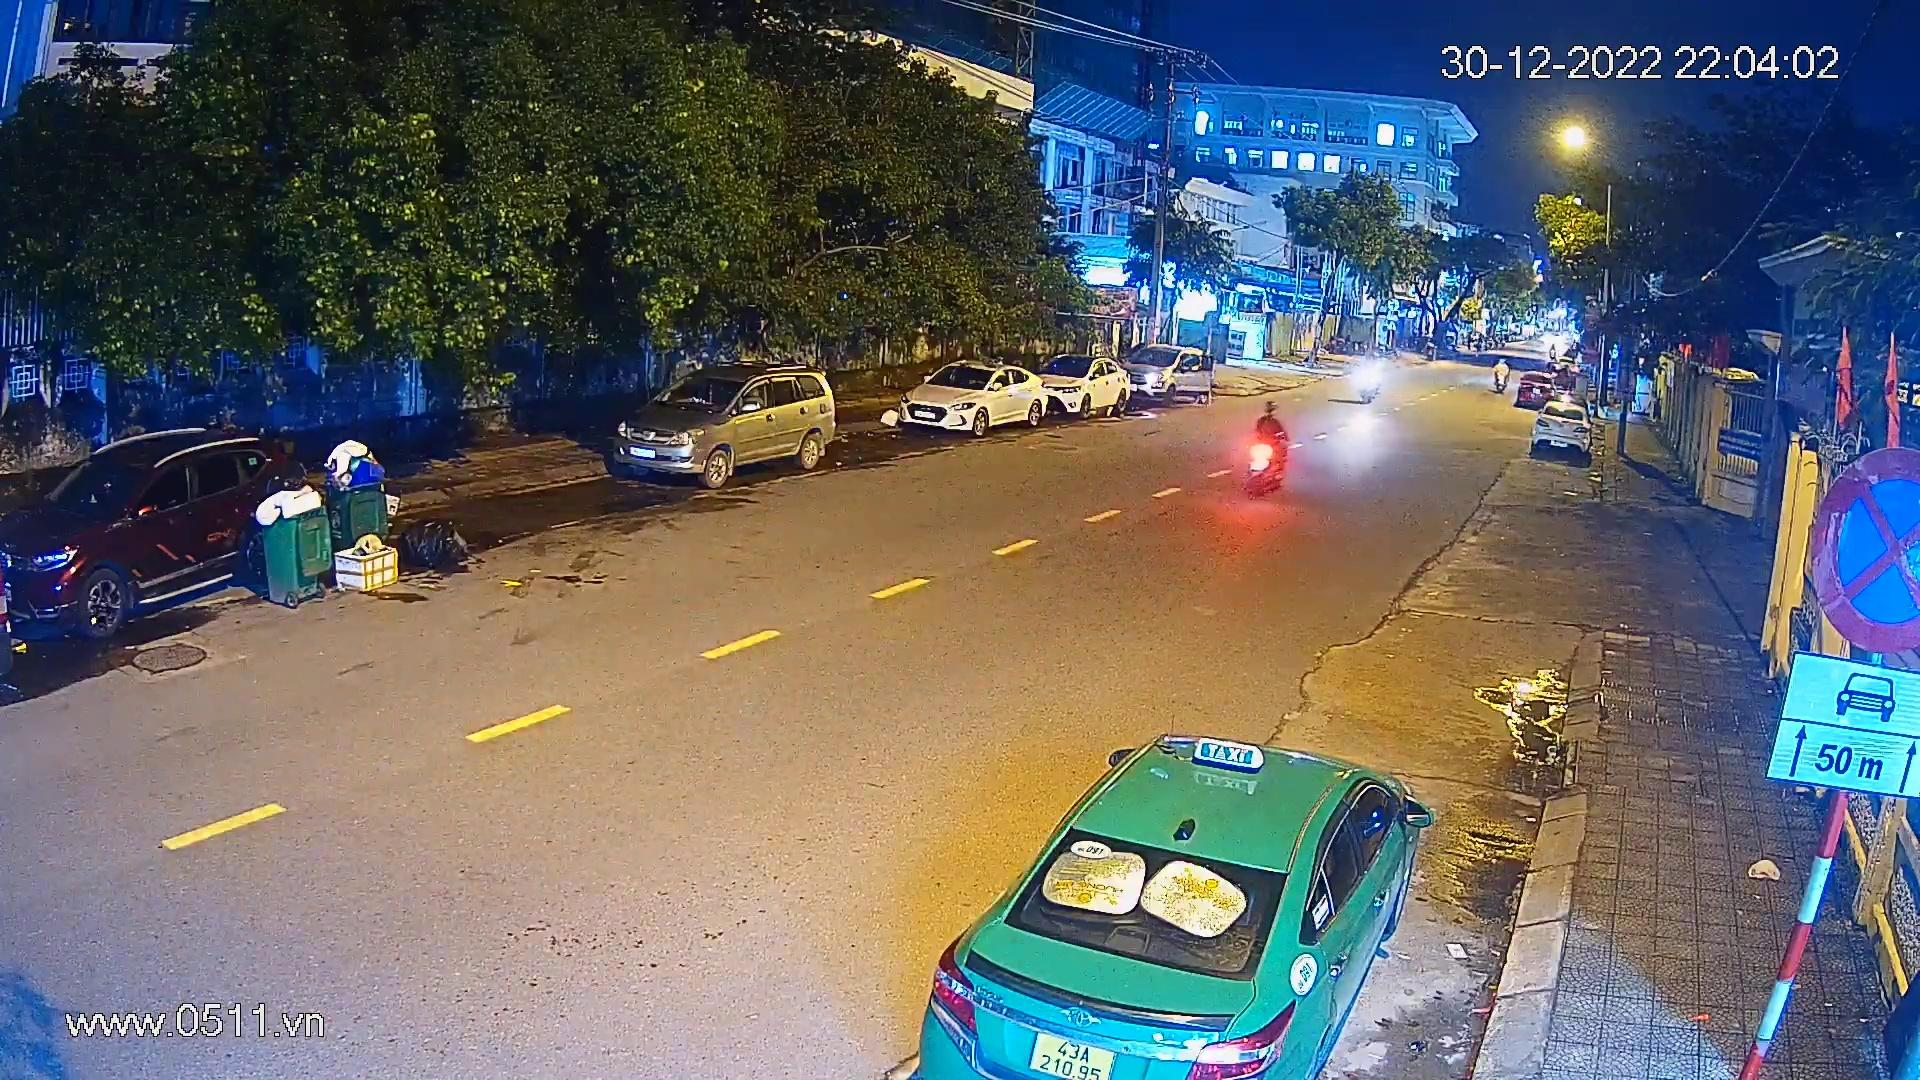car: (906, 731, 1437, 1080), (0, 406, 335, 673), (601, 356, 836, 492), (893, 357, 1048, 438), (1025, 356, 1138, 421), (1117, 340, 1218, 405), (1531, 406, 1590, 476), (1509, 373, 1568, 409)
motorcycle: (1241, 393, 1292, 496), (1485, 340, 1514, 402), (1354, 351, 1382, 413)
